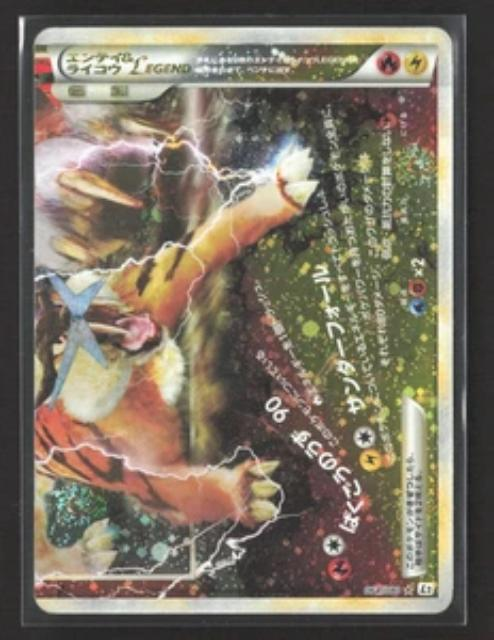Card: (31, 22, 459, 617)
Name: (59, 46, 195, 80)
